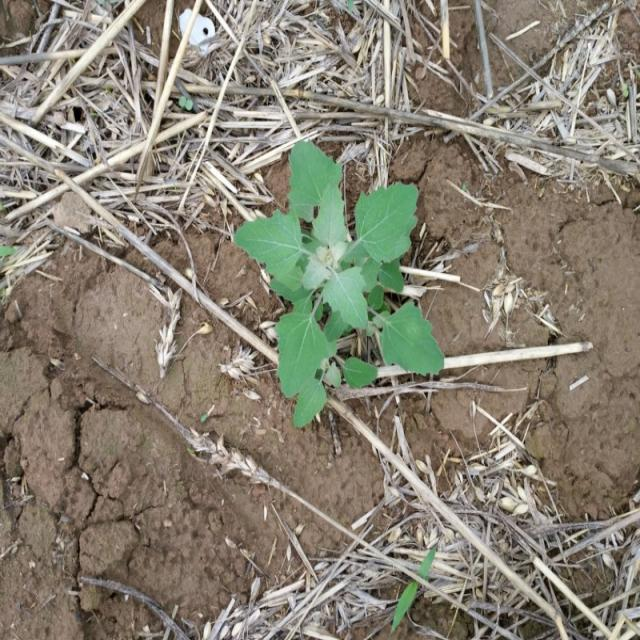goosefoots: (219, 132, 455, 422)
